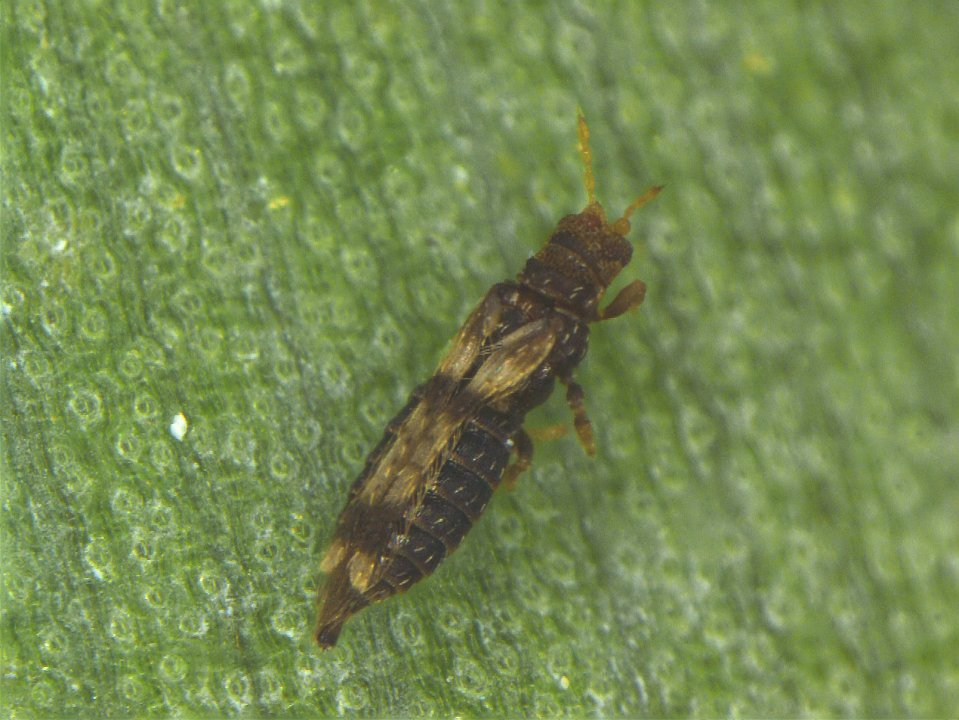Thrips: (292, 98, 689, 653)
